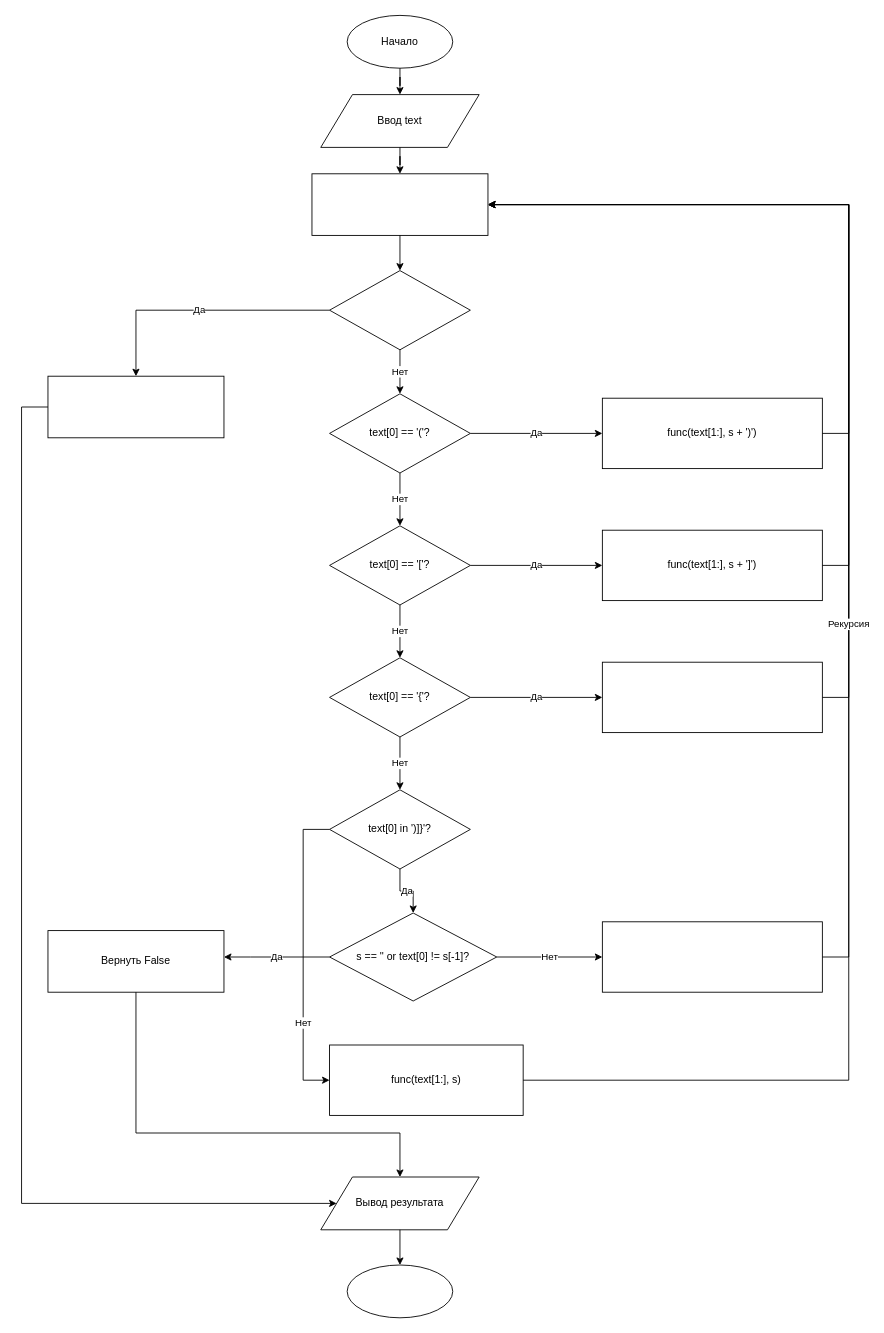
This 884x1333 diagram has some shape labels left out. Here are the shapes that lost their labels. From the top down, the box of each, then its label:
(311, 173, 488, 235): Вызов func(text, '')
(329, 270, 470, 350): text == ''?
(47, 375, 224, 438): Вернуть s == ''
(601, 661, 822, 733): func(text[1:], s + '}')
(601, 921, 822, 992): func(text[1:], s[:-1])
(346, 1264, 453, 1318): Конец
